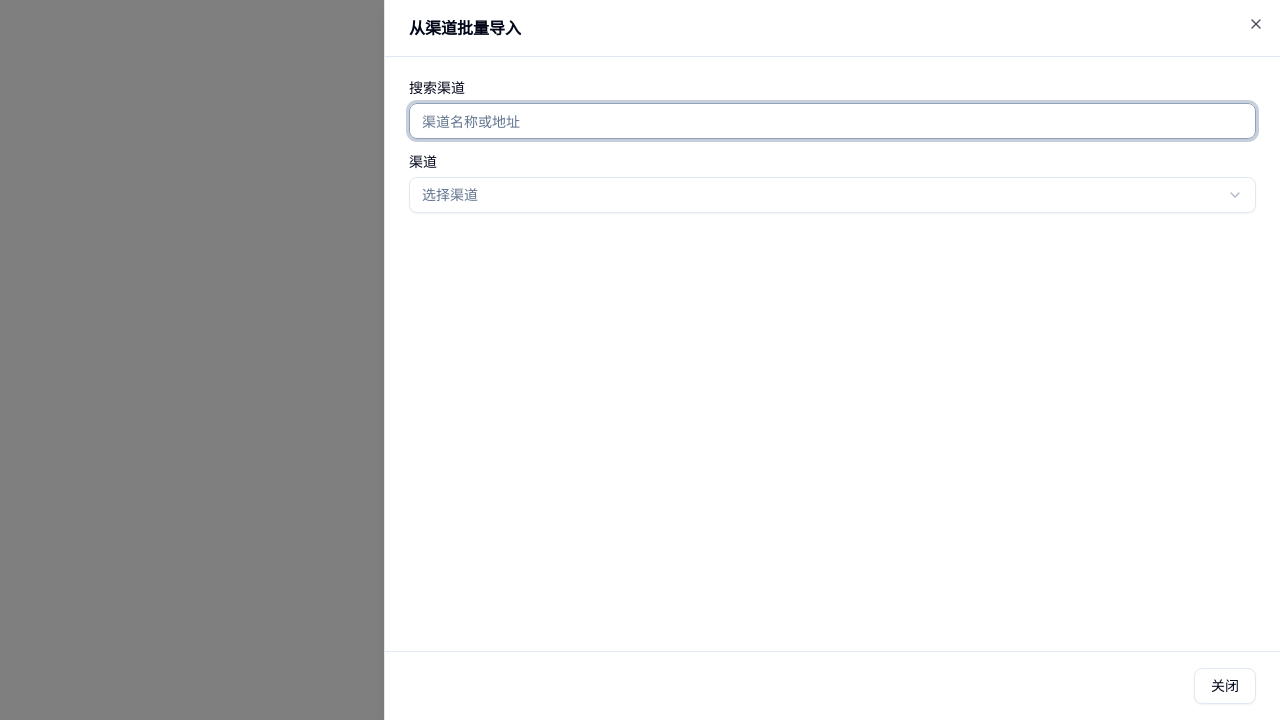
recovers a lost commit response from the receipt without another commit
This screenshot has width=1280, height=720.
Click the dropdown labelled "渠道". click: (450, 194)
box: [409,177,1256,213]
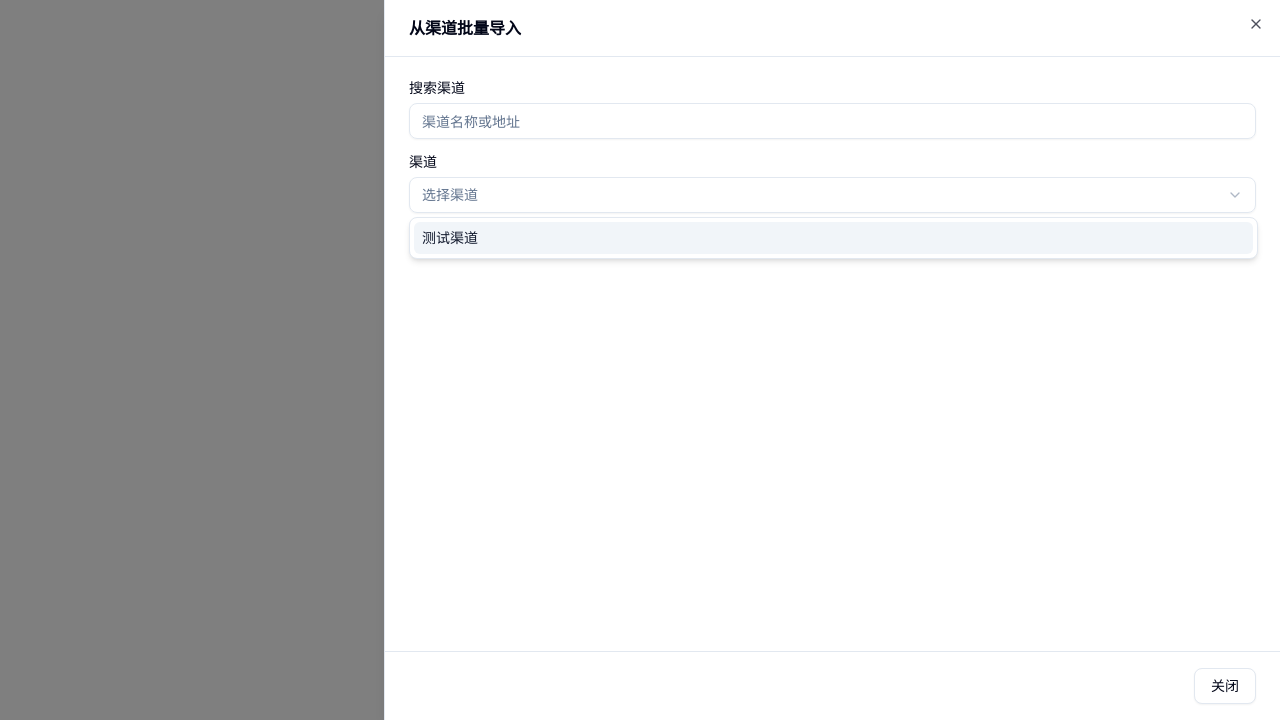
Click the option "测试渠道". click: (450, 238)
box: [414,222,1253,254]
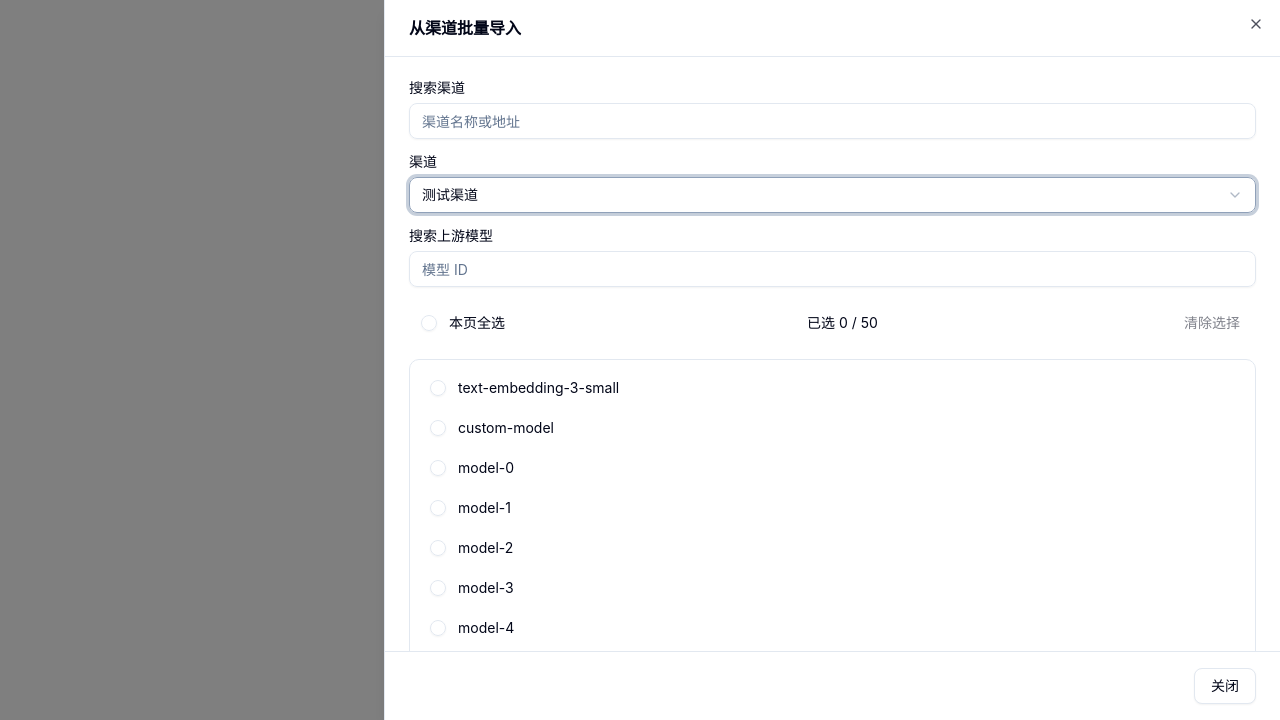
Click the checkbox named "选择 custom-model". click: (438, 428)
box: [430,420,446,436]
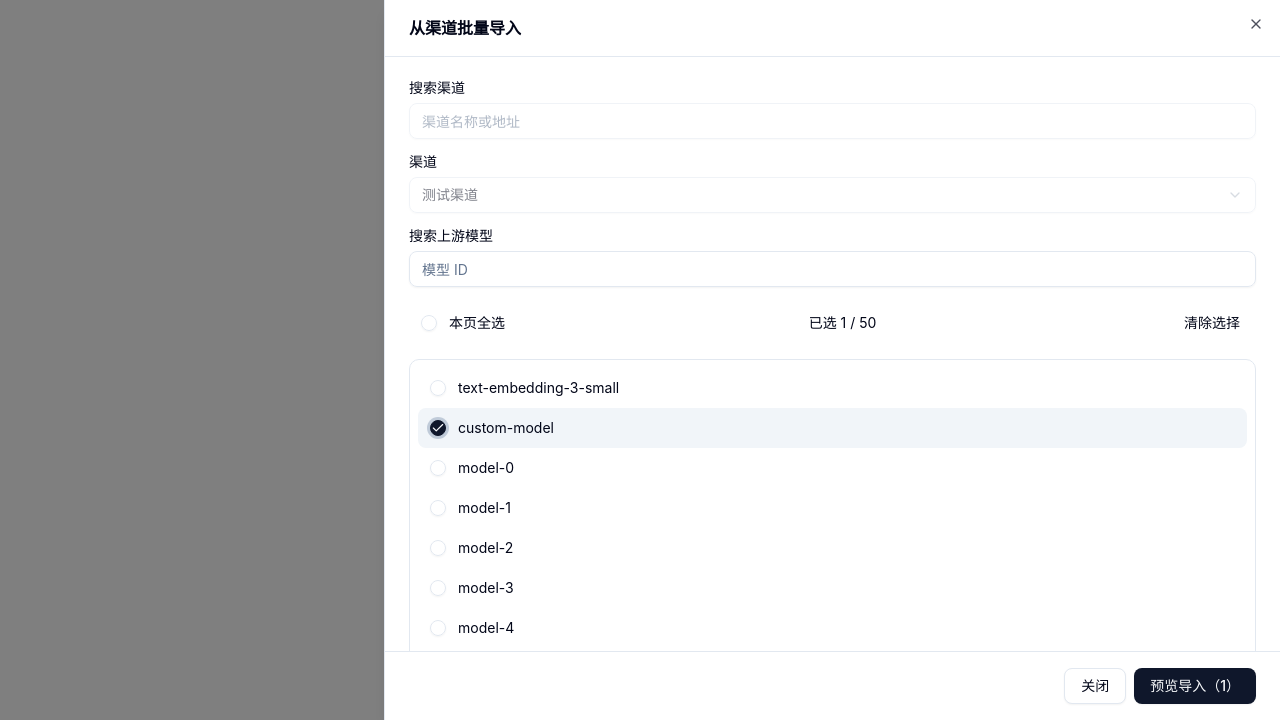
Click the button "预览导入（1）". click: (1195, 686)
box: [1134,668,1256,704]
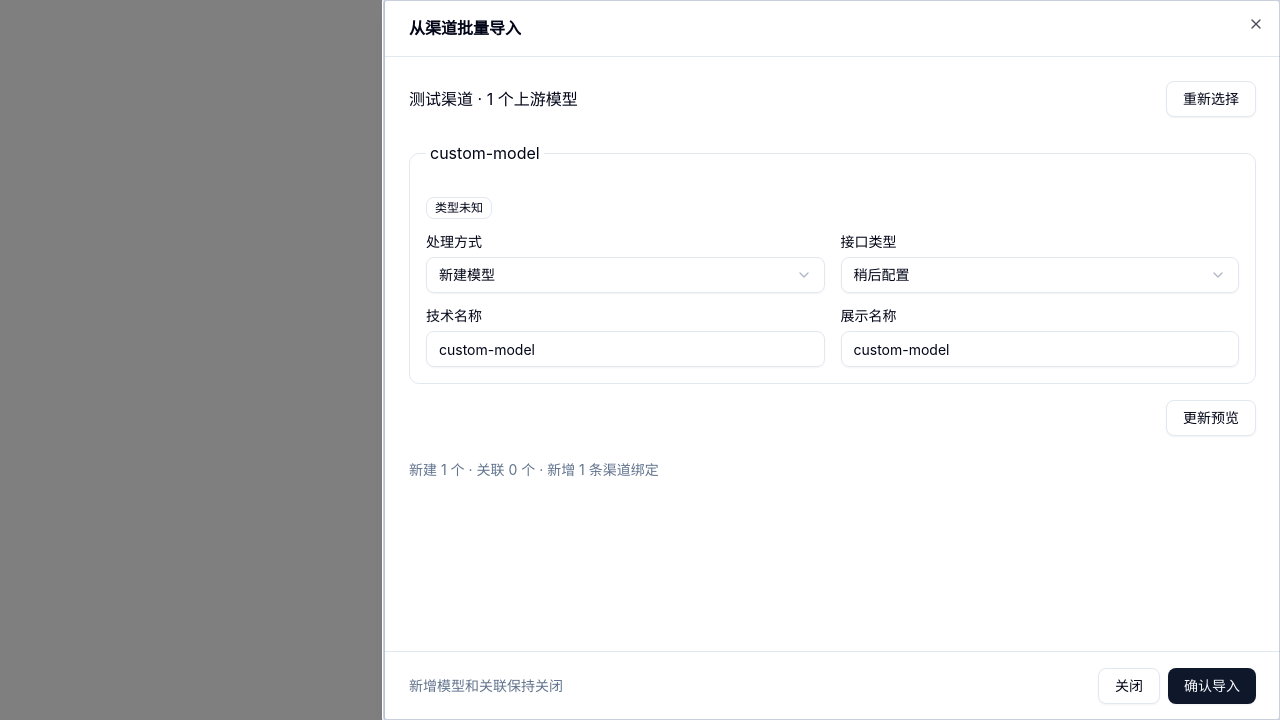
Click the button "确认导入". click: (1212, 686)
box: [1168,668,1256,704]
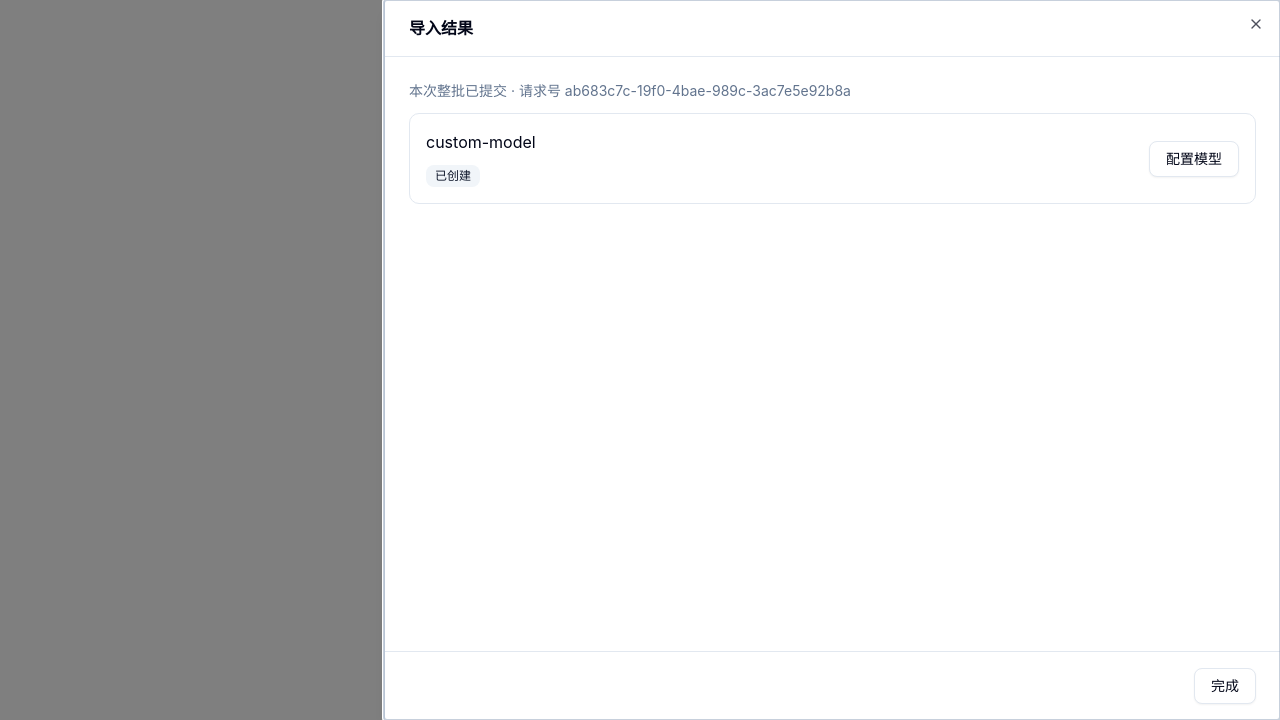
Result: the heading "导入结果" is shown at [409,18,473,38]
